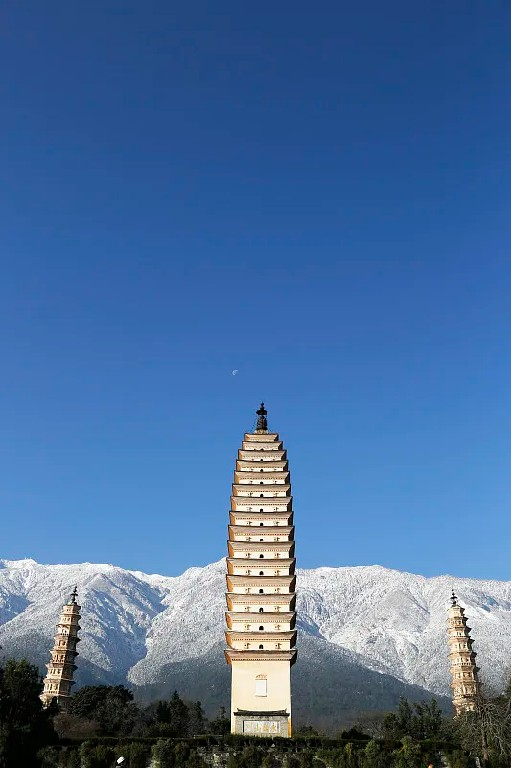ThreePagoda: (223, 402, 297, 738)
